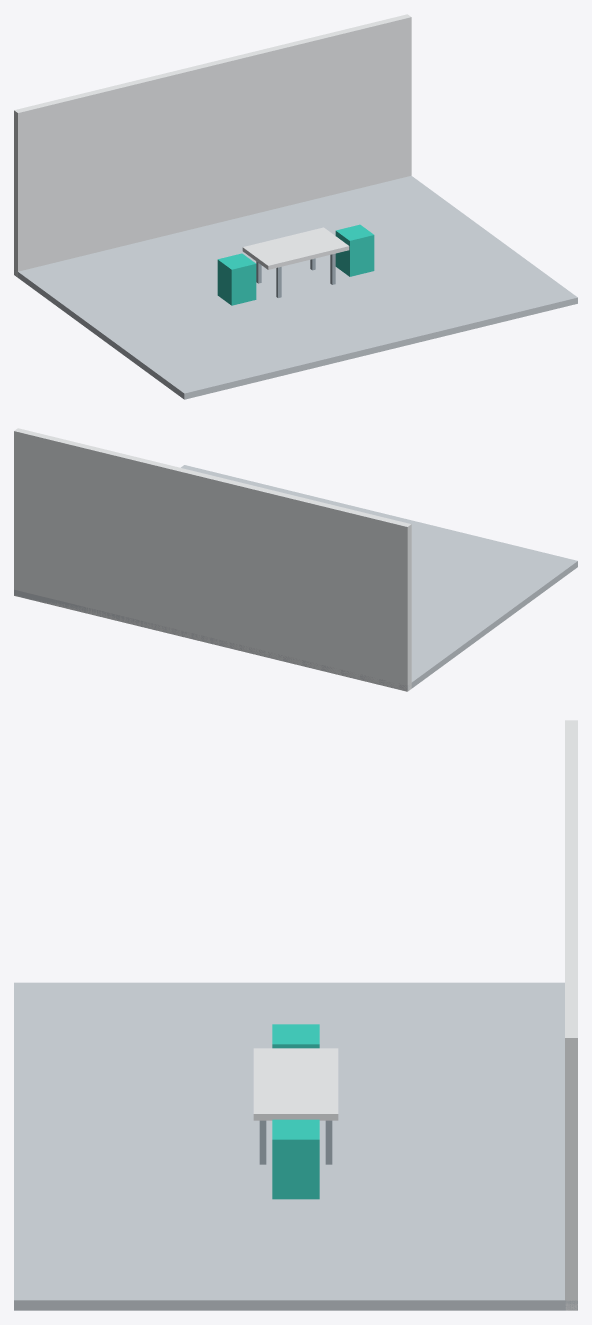
The picture shows the model from 3 angles, top to bottom: view 1: azimuth 30°, elevation 25°; view 2: azimuth 150°, elevation 25°; view 3: azimuth 270°, elevation 25°; orthographic projection. The views are drawn at different scales.
Parts seen in each view (by area): view 1: Exhibition Booth Concept; view 2: Exhibition Booth Concept; view 3: Exhibition Booth Concept.
Part boxes in pixels (left/top/right/bottom): Exhibition Booth Concept: left=14, top=14, right=577, bottom=399; Exhibition Booth Concept: left=14, top=428, right=577, bottom=691; Exhibition Booth Concept: left=14, top=720, right=577, bottom=1310.
Bounding box in the file's own units: 8 × 3.2 × 6.
